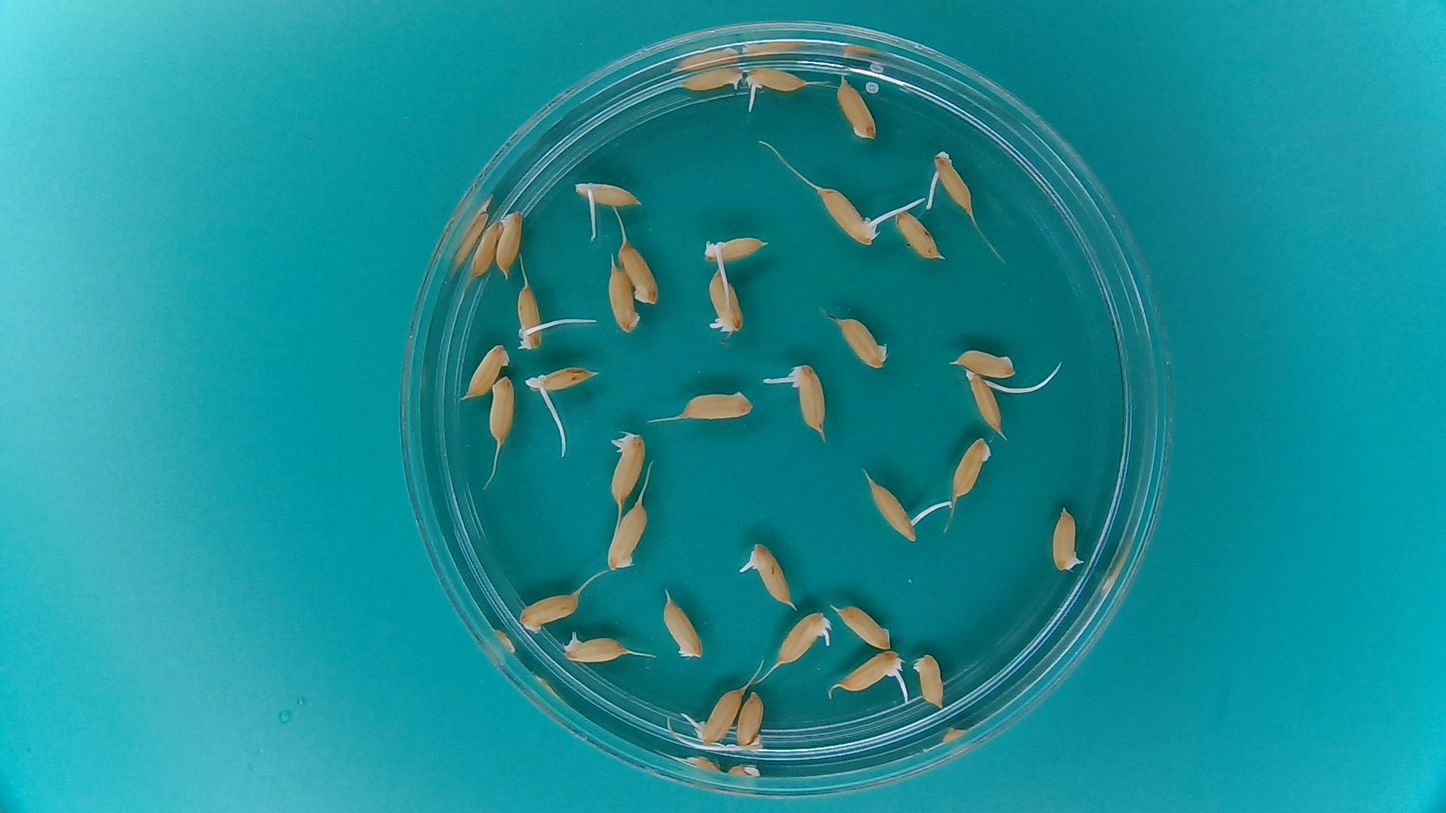no: (830, 311, 892, 373), (946, 434, 995, 504), (832, 71, 880, 142), (660, 589, 706, 661), (604, 498, 648, 573), (514, 589, 582, 635), (676, 385, 757, 423), (618, 237, 662, 306), (462, 339, 509, 403), (833, 601, 892, 650), (893, 210, 947, 263), (603, 262, 641, 337), (944, 344, 1019, 377), (493, 209, 525, 282), (487, 373, 517, 446), (911, 650, 947, 708), (468, 218, 502, 279)
yes: (816, 184, 895, 252), (738, 538, 798, 610), (865, 474, 921, 542), (606, 427, 649, 511), (786, 358, 831, 435), (774, 608, 834, 665), (703, 264, 748, 339), (835, 649, 907, 695), (963, 370, 1010, 434), (934, 146, 976, 217), (1048, 503, 1088, 575), (690, 687, 743, 741), (560, 628, 630, 665), (700, 231, 770, 266), (571, 175, 642, 209), (522, 361, 596, 392), (743, 62, 816, 93), (513, 282, 545, 352), (679, 62, 746, 95), (734, 687, 767, 751)
